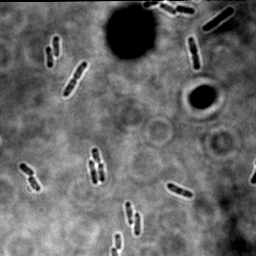Dividing: (61, 60, 88, 99), (186, 35, 203, 72), (90, 146, 106, 183)
Rod: (200, 5, 236, 33), (165, 183, 194, 200), (86, 160, 99, 186), (123, 200, 135, 226), (158, 3, 177, 16), (44, 45, 54, 69), (18, 162, 35, 176), (175, 5, 196, 16), (28, 175, 41, 192), (51, 36, 61, 58), (133, 211, 141, 238), (113, 233, 123, 251)
